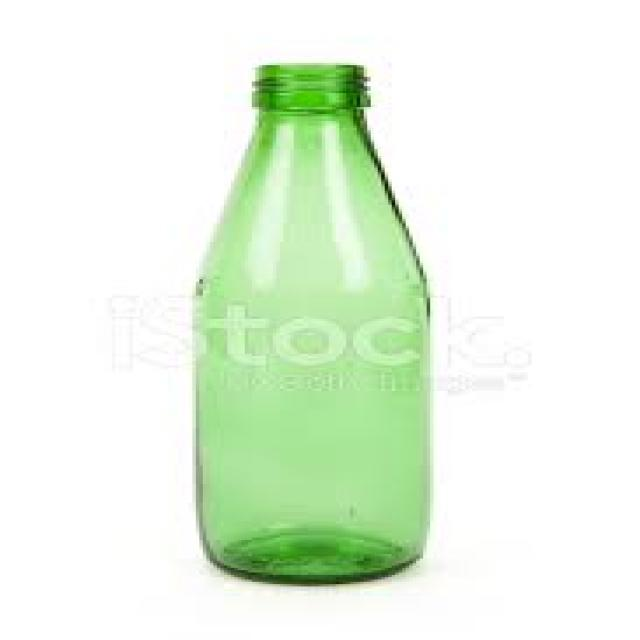Glass-Non-Biodegradable but Recyclable-: (188, 62, 434, 586)
